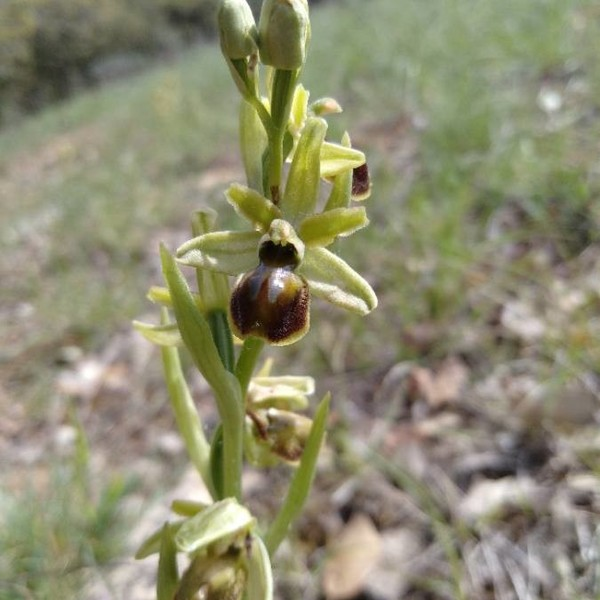obstacle: (160, 8, 383, 570)
